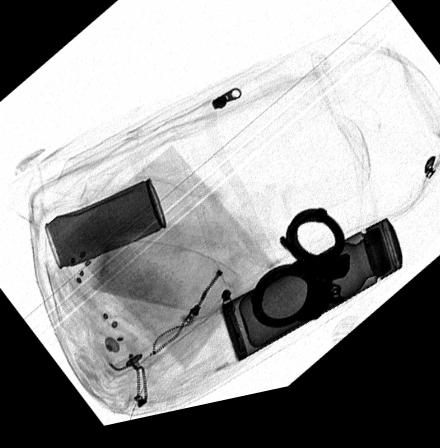HandCuffs: (249, 220, 348, 340)
